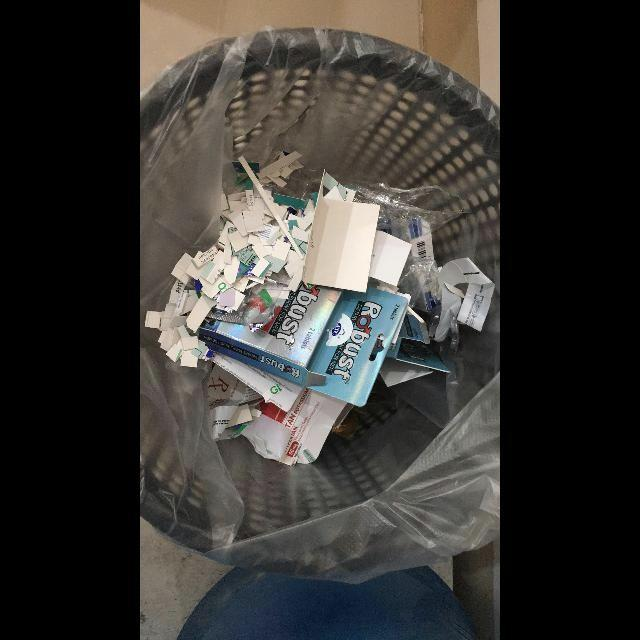cardboard: (197, 282, 409, 407), (302, 179, 380, 293), (386, 311, 450, 373)
paper: (243, 211, 266, 233)
plastic_bag: (343, 182, 472, 240)
